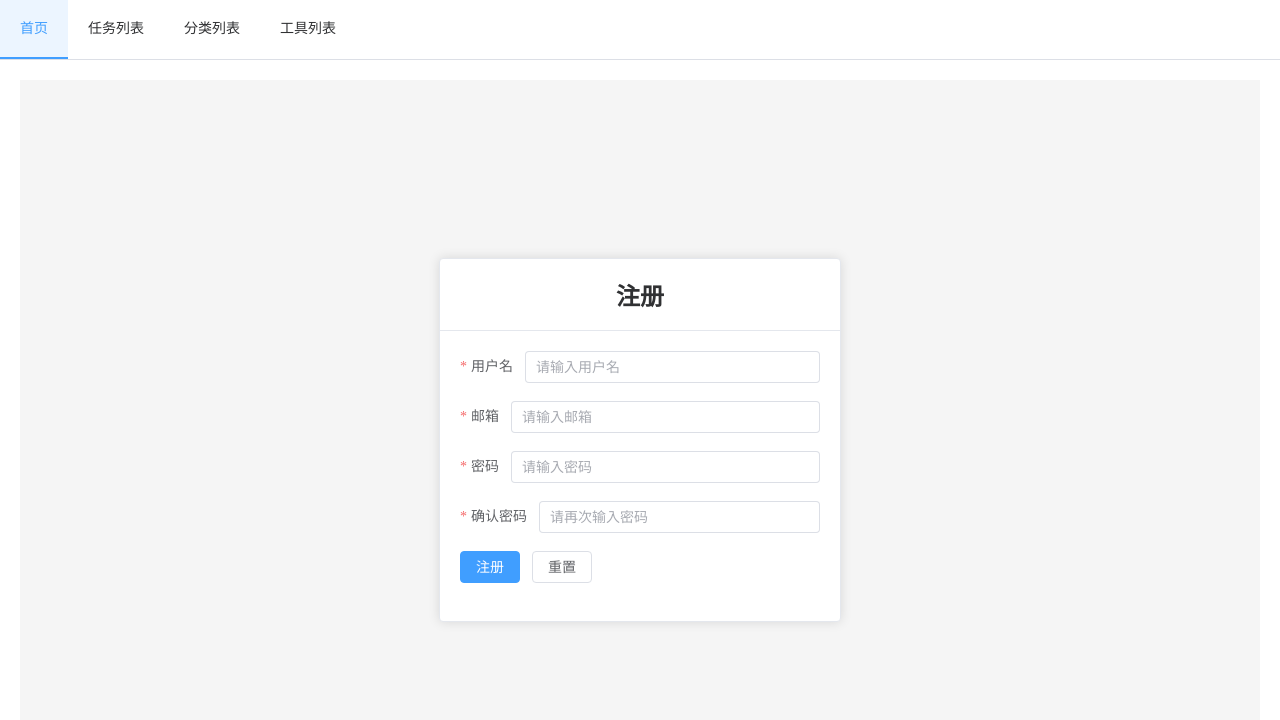
Test case: 用户认证 › 注册页面 › 应该验证密码一致性
Check: the heading "注册" is shown, box [616,284,664,310]
Type "newuser" into the field labelled "用户名" at (673, 367), box [536,352,809,382]
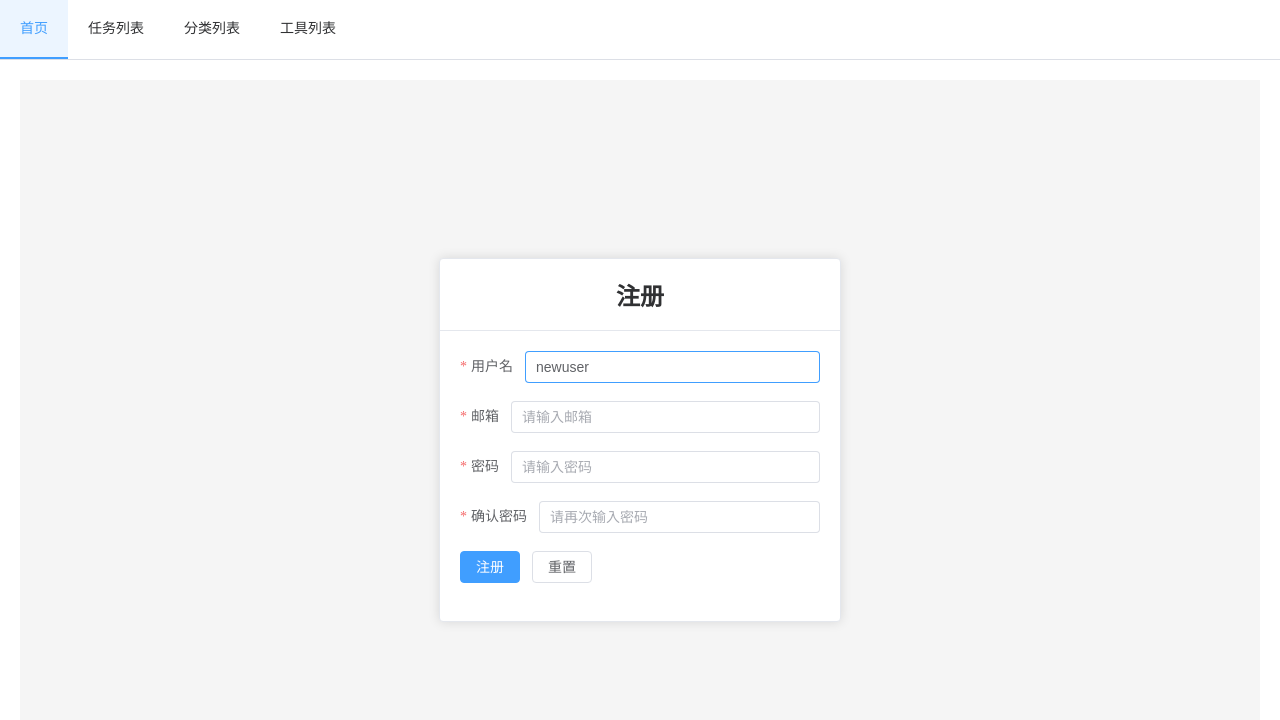
Type "newuser@example.com" into the field labelled "邮箱" at (666, 417), box [522,402,809,432]
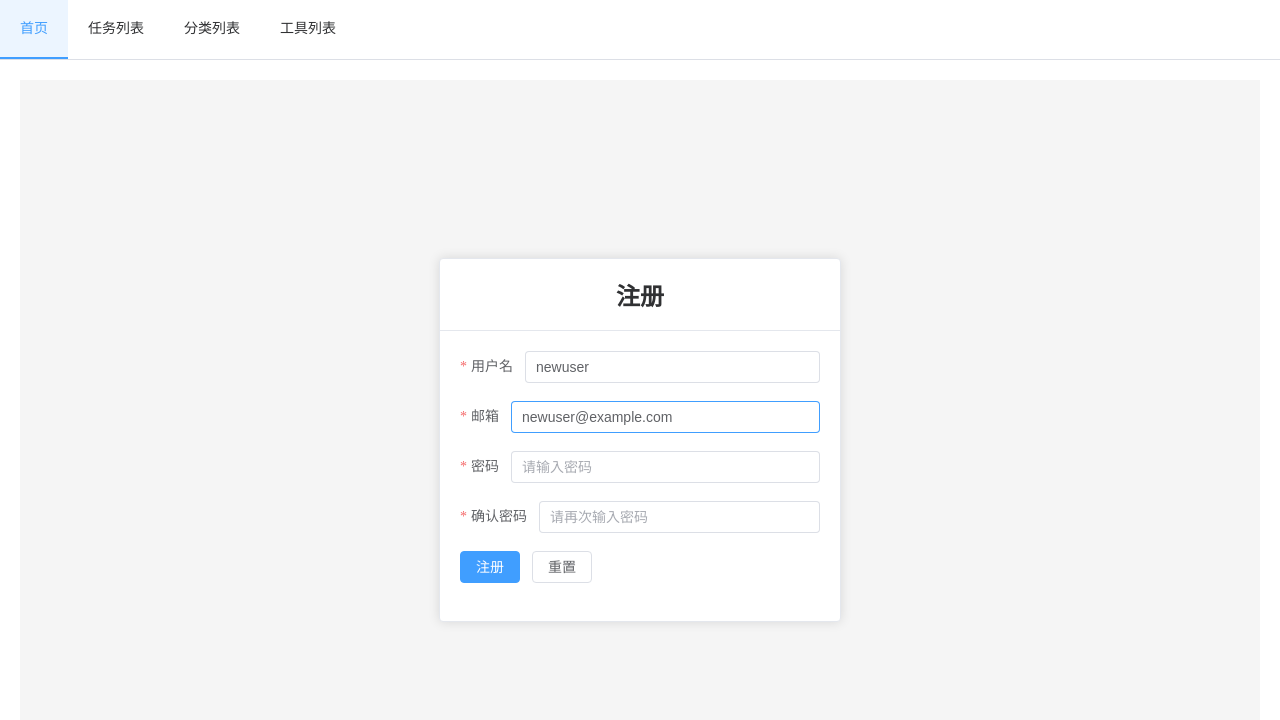
Type "password123" into the password field labelled "密码" at (666, 467), box [522,452,809,482]
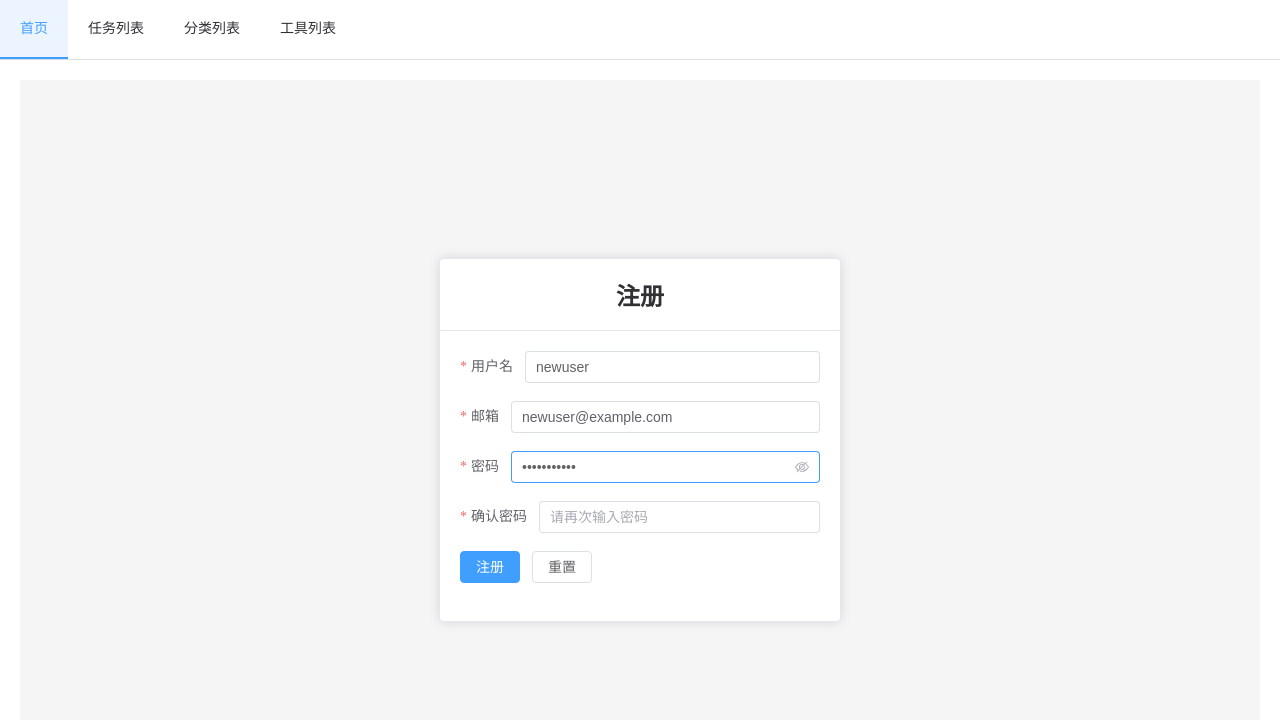
Type "different" into the password field labelled "确认密码" at (680, 517), box [550,502,809,532]
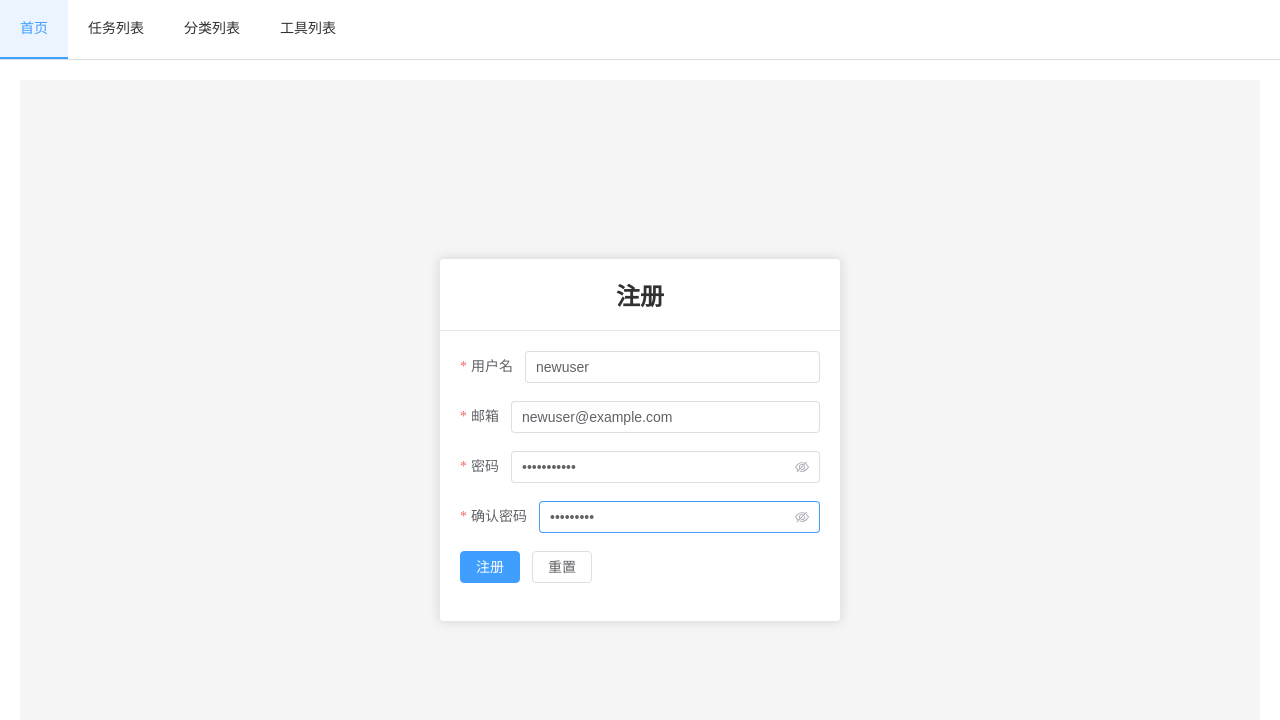
Click the heading "注册" at (640, 297), box [616,284,664,310]
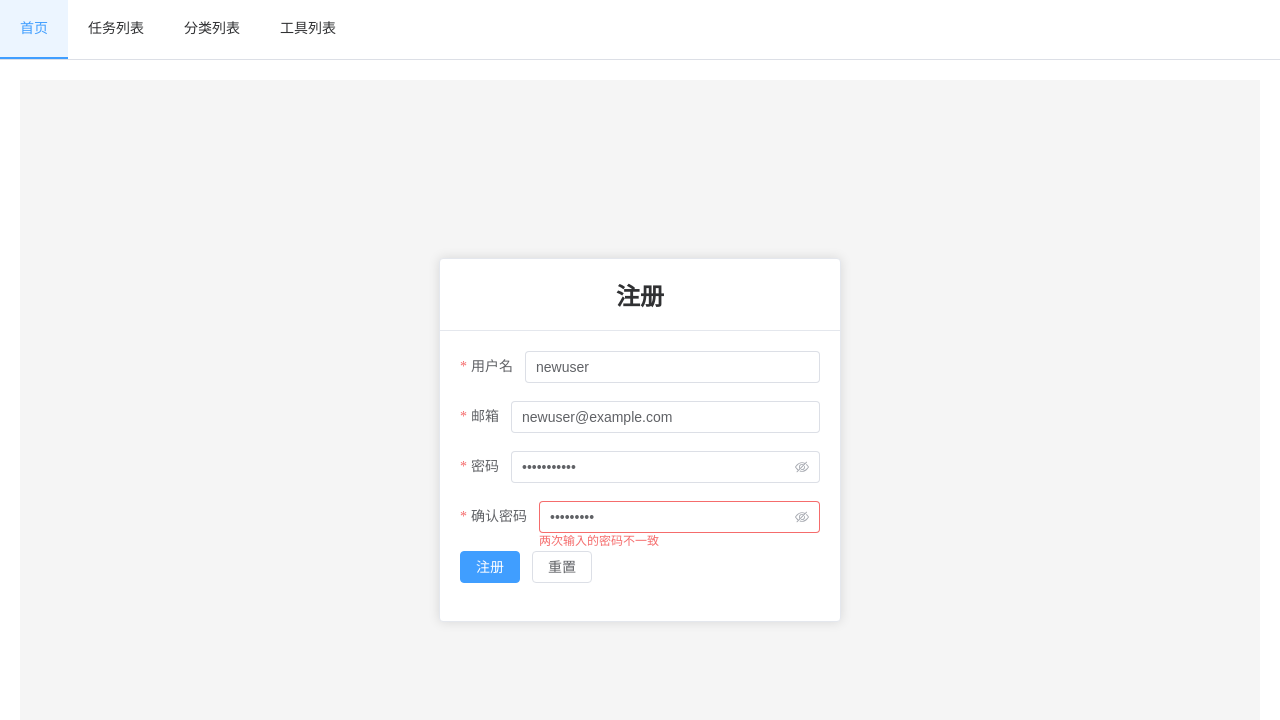
Check: the text "两次输入的密码不一致" is shown, box [539,533,659,547]
